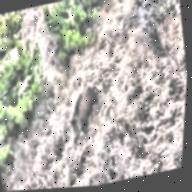boar: (58, 81, 112, 150)
